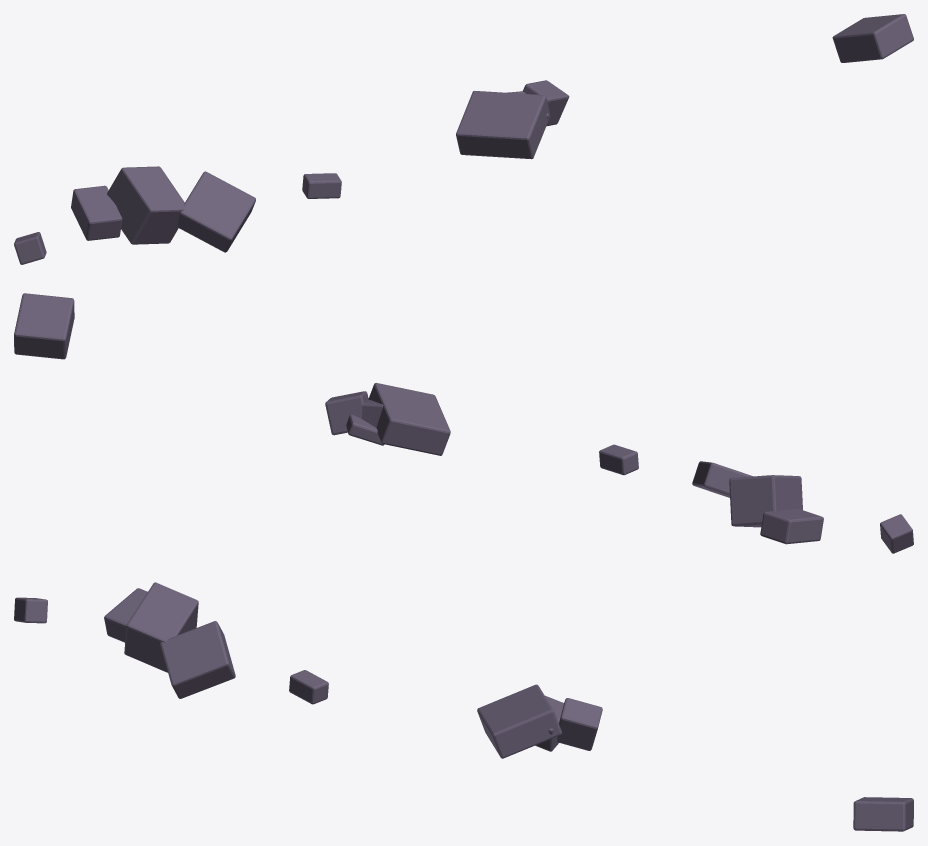
Rendered from Rubble_Stone.fbx.
3 views of the same model, one above another, from view 1: azimuth 30°, elevation 25°; view 2: azimuth 150°, elevation 25°; view 3: azimuth 330°, elevation 25° (orthographic).
Parts seen in each view (by area): view 1: RubbleThrone_0.001; view 2: RubbleThrone_0.001; view 3: RubbleThrone_0.001.
Part boxes in pixels (box(x1,y1,x2,y2)): RubbleThrone_0.001: box(14, 14, 913, 264); RubbleThrone_0.001: box(14, 293, 913, 553); RubbleThrone_0.001: box(14, 582, 913, 831).
Bounding box in the file's own units: 5340 × 409 × 671.
